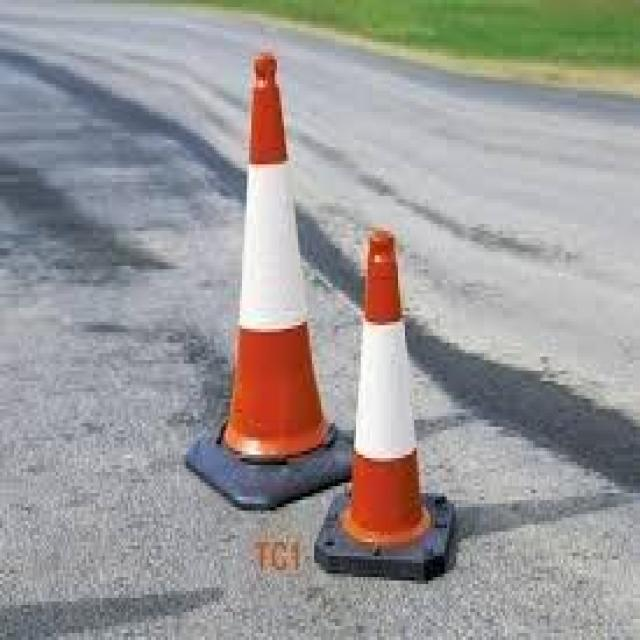Cono de seguridad: (188, 56, 357, 512), (316, 231, 454, 581)
